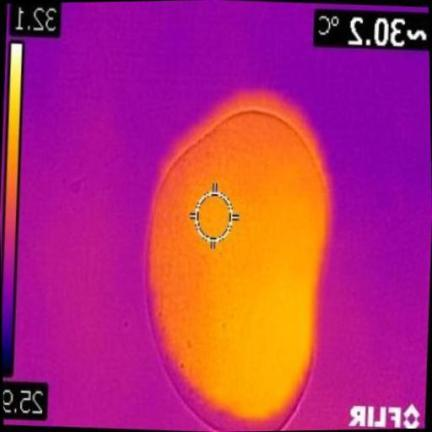mango: (148, 105, 330, 432)
